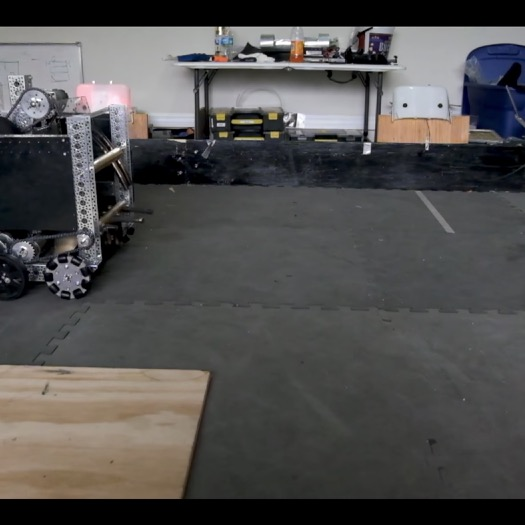robot: (1, 71, 154, 303)
